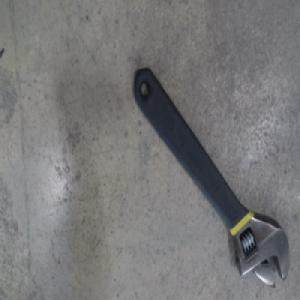AdjustableWrench: (131, 63, 289, 283)
